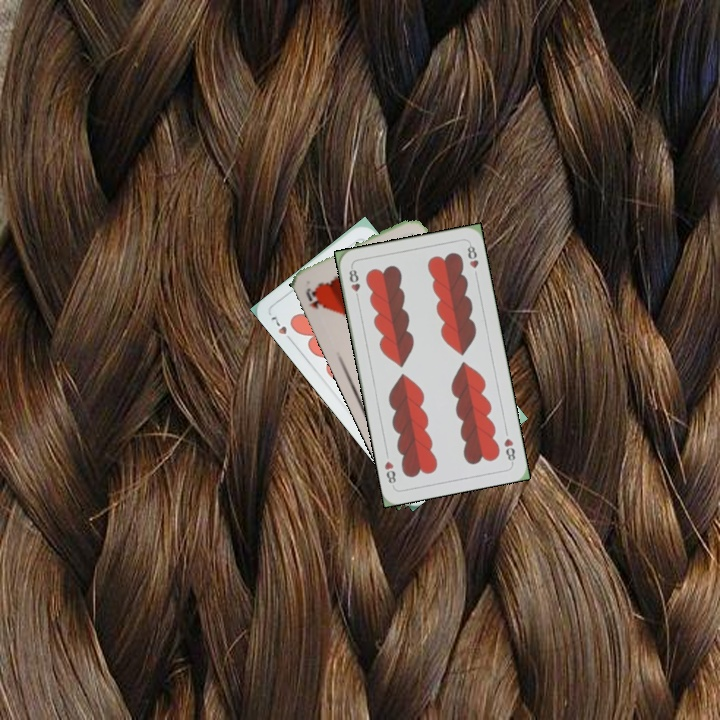H7: (266, 311, 296, 345)
H8: (345, 263, 363, 304), (500, 434, 518, 466)
HO: (302, 284, 327, 312)
